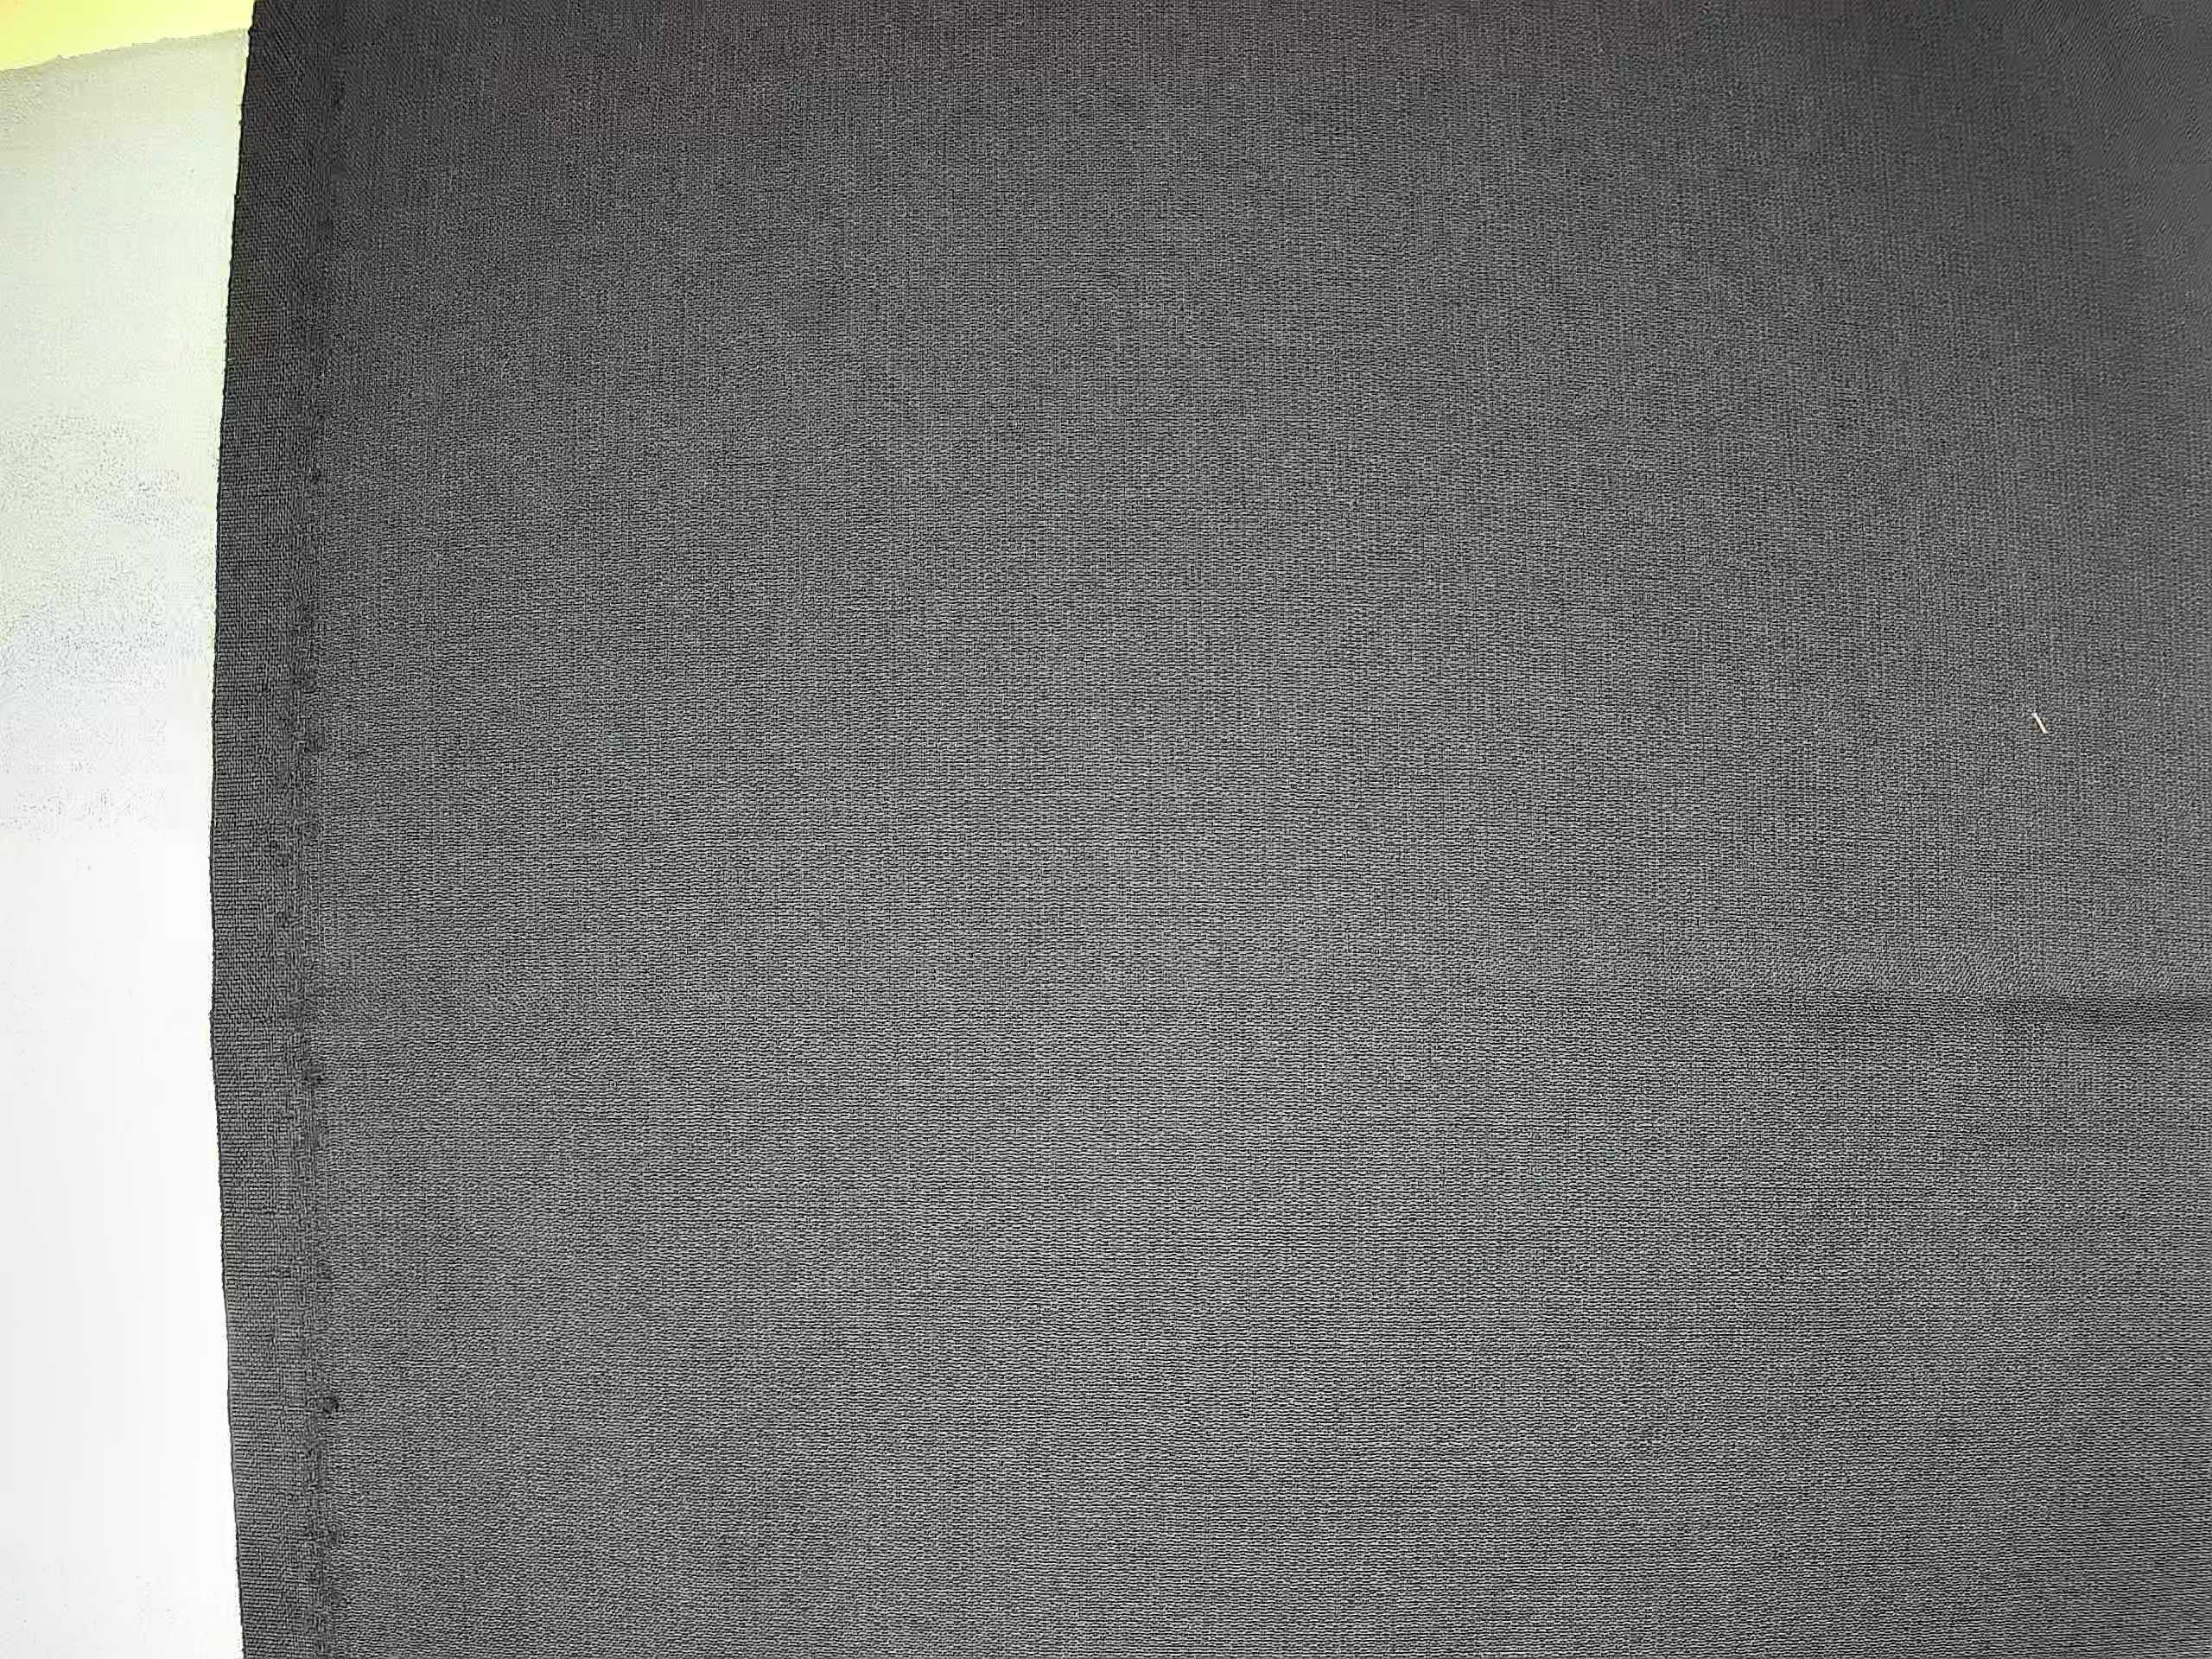puncture-hole: (275, 3, 362, 1643)
